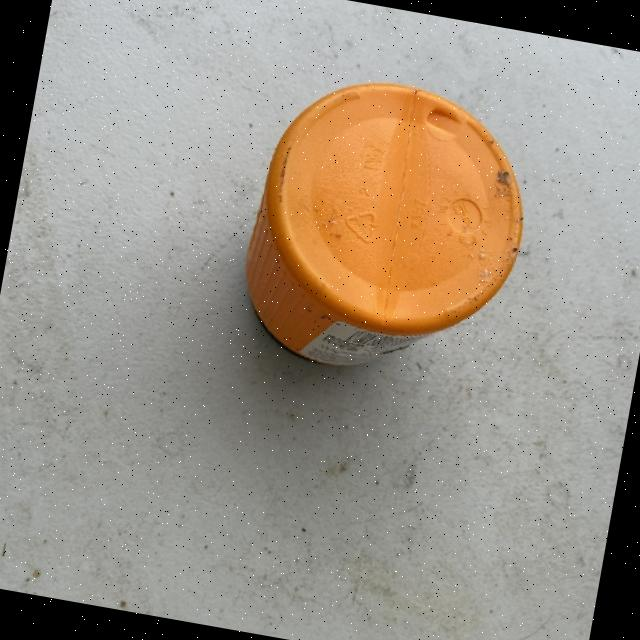plastic: (228, 60, 544, 394)
